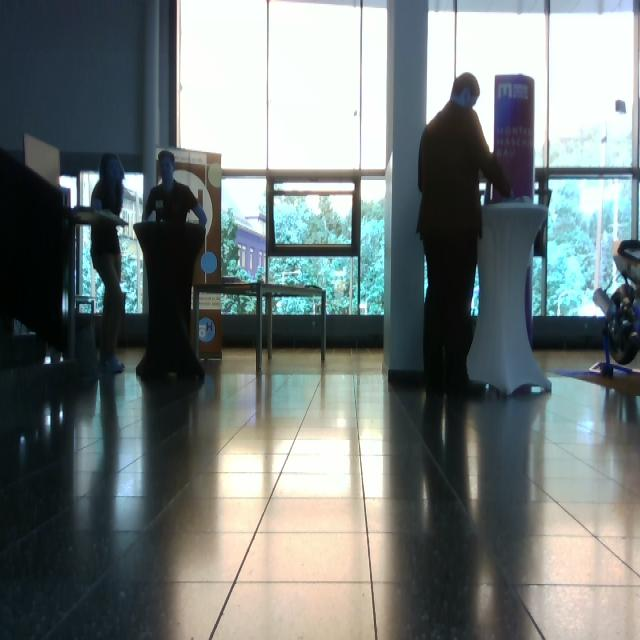light bulb: (593, 288, 616, 321), (201, 252, 218, 274), (209, 162, 222, 189), (615, 100, 626, 114)
person: (416, 72, 513, 397), (137, 150, 208, 381), (90, 153, 129, 374)
pillar: (383, 1, 429, 382)
table: (465, 200, 555, 401)
tiled floor: (2, 344, 639, 638)
window: (176, 1, 390, 320), (78, 170, 145, 316)
